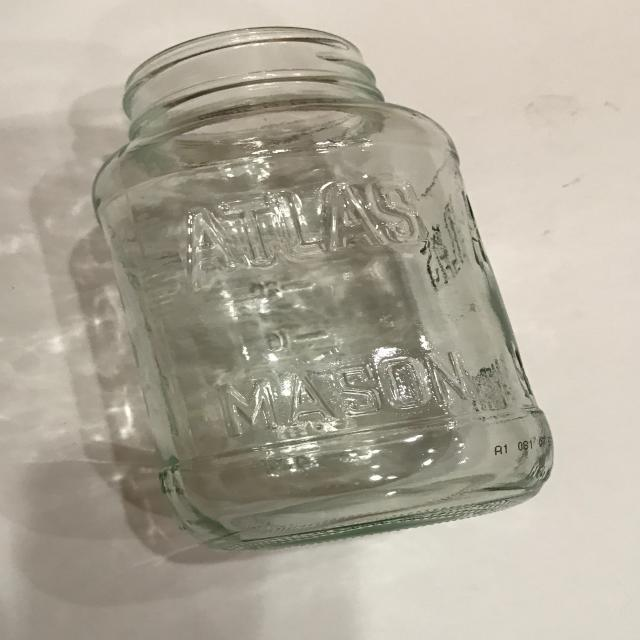glass: (90, 24, 554, 551)
